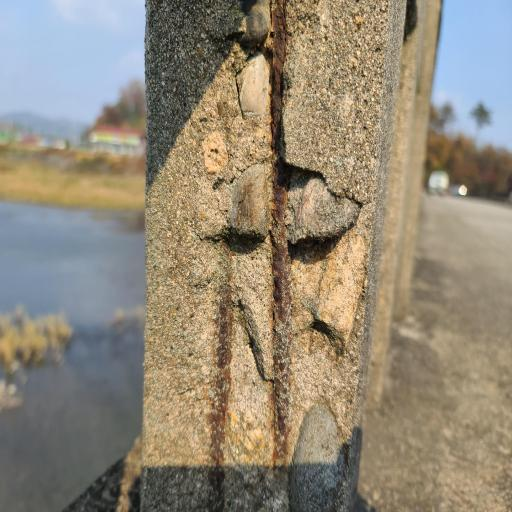exposed_rebar: (271, 0, 292, 464), (208, 242, 232, 510)
spalling: (165, 0, 368, 464)
